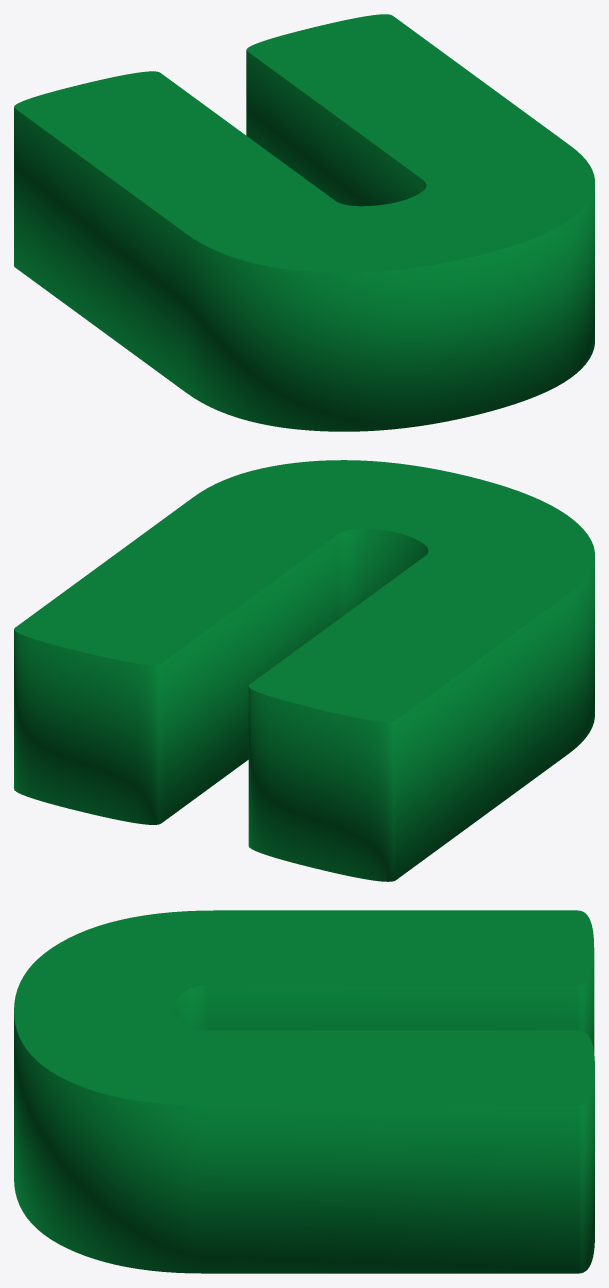
3 renders of one model, top to bottom at view 1: azimuth 30°, elevation 25°; view 2: azimuth 150°, elevation 25°; view 3: azimuth 270°, elevation 25°, orthographic. The views are drawn at different scales.
Parts seen in each view (by area): view 1: u; view 2: u; view 3: u.
Part boxes in pixels (box(x1,y1,x2,y2)): u: box(14, 14, 594, 431); u: box(14, 460, 594, 881); u: box(14, 910, 594, 1273).
Bounding box in the file's own units: 0.2415 × 0.097 × 0.304.
